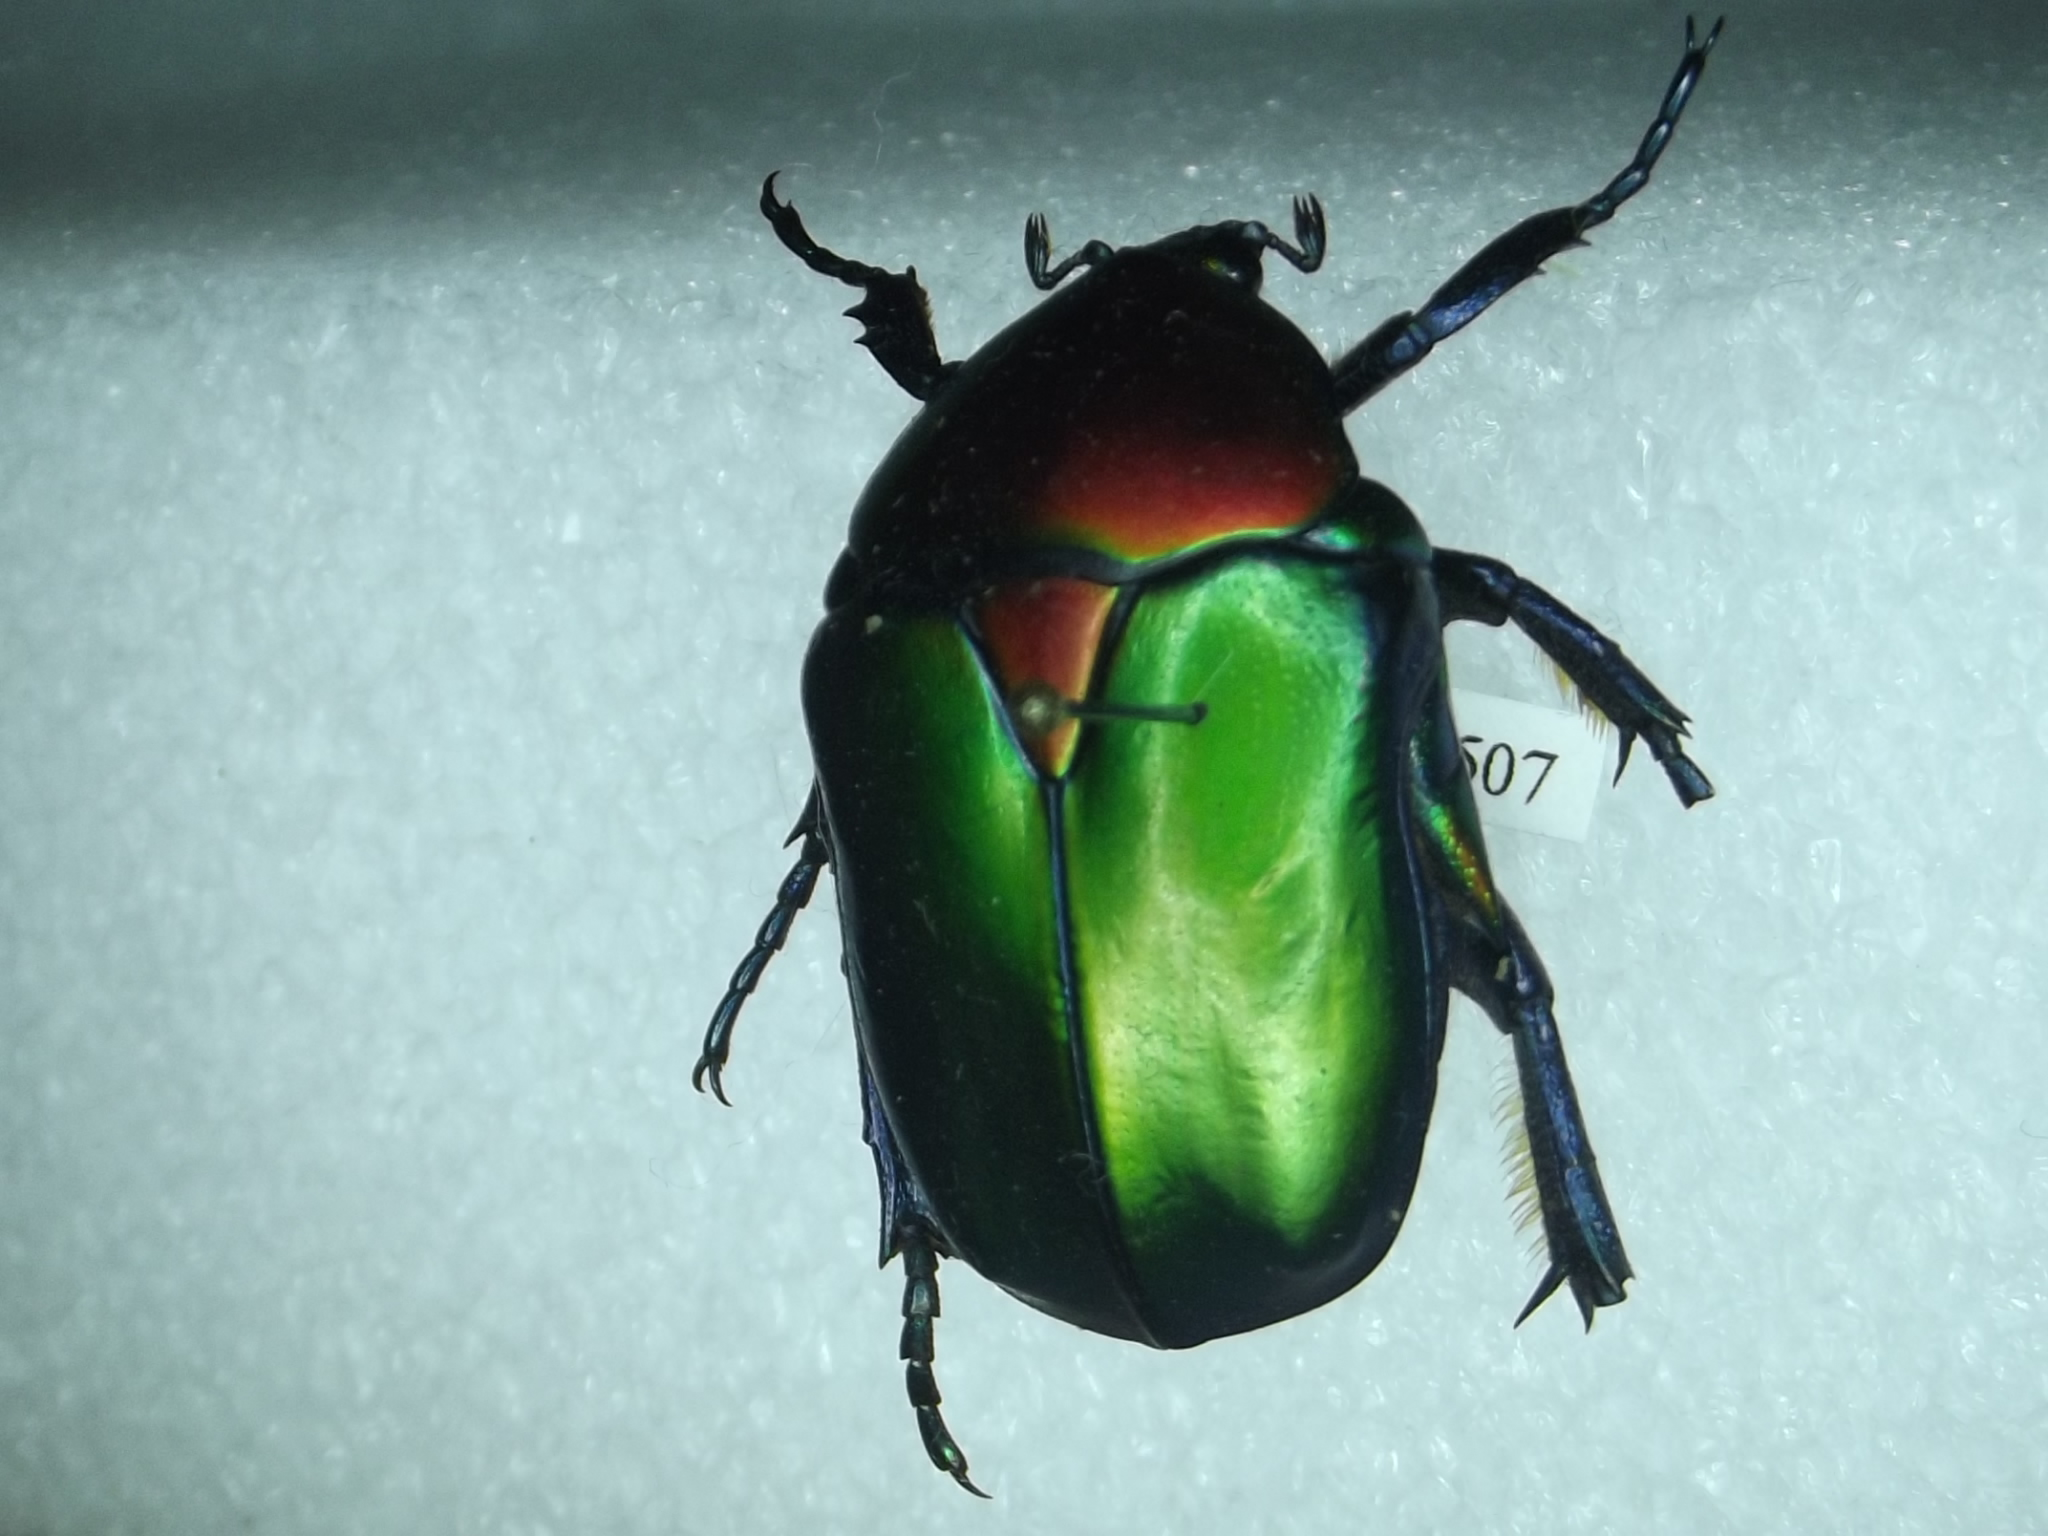Protaetia_speciosa_jousseliniw: (668, 3, 1730, 1510)
